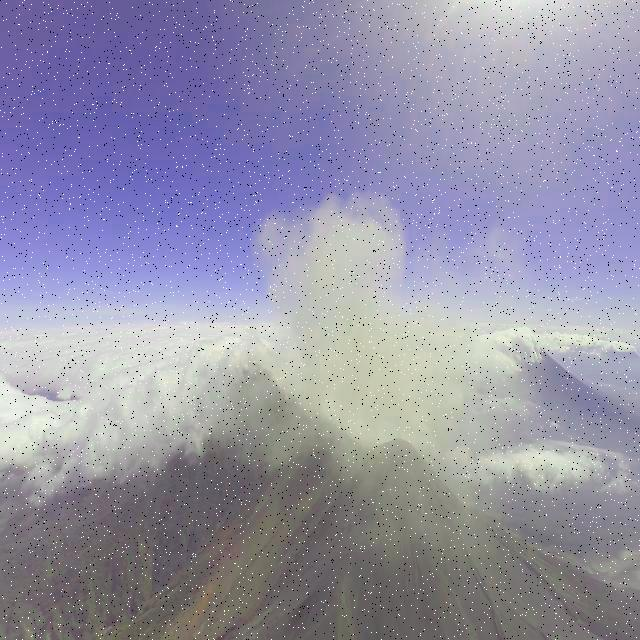Plume: (258, 190, 472, 427)
Summit: (344, 436, 466, 538)
